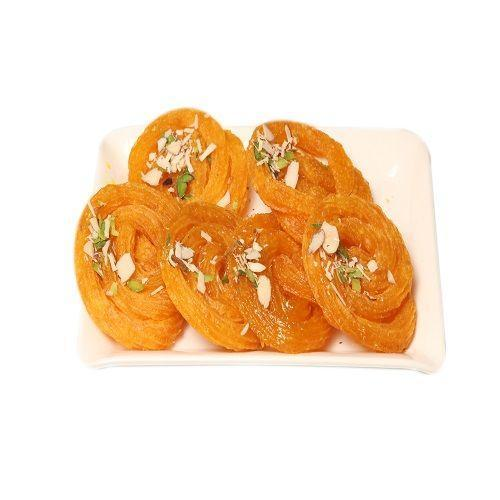jalebi: (71, 116, 439, 353)
